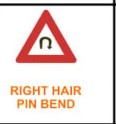Traffic signal: (15, 8, 78, 66)
